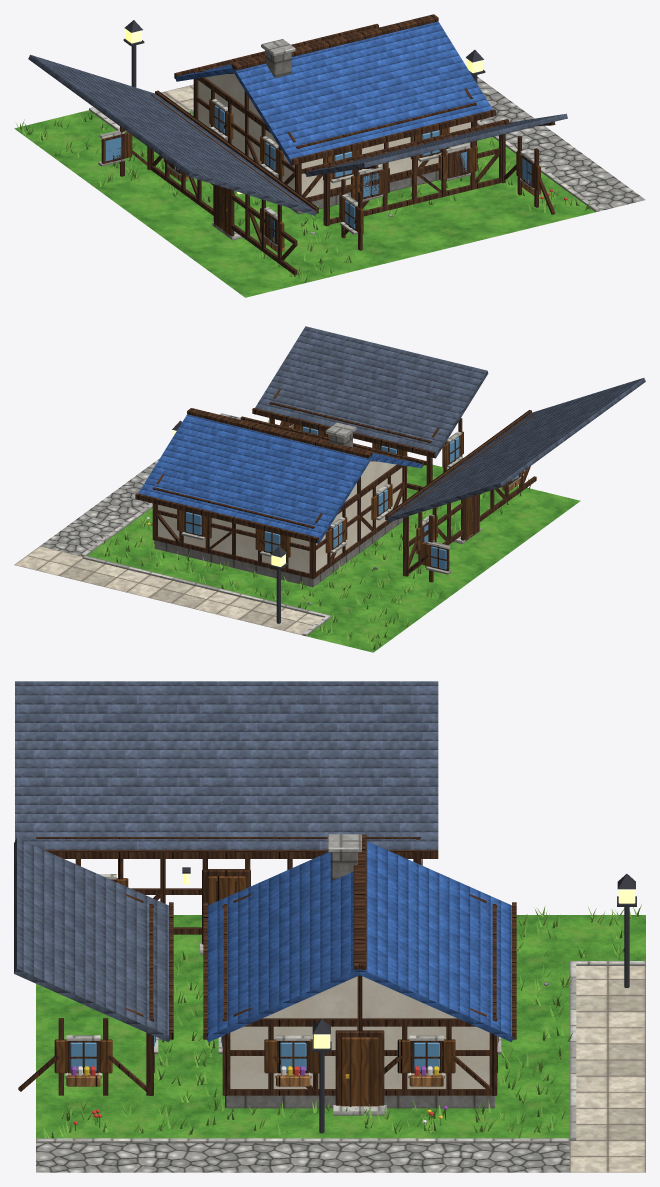
File: chunk_5_12.glb
3 views of the same model, one above another, from view 1: azimuth 30°, elevation 25°; view 2: azimuth 150°, elevation 25°; view 3: azimuth 270°, elevation 25° (orthographic). The views are drawn at different scales.
Parts seen in each view (by area): view 1: chunk_5_12; view 2: chunk_5_12; view 3: chunk_5_12.
Part boxes in pixels (x1,y1,x2,y2): chunk_5_12: (14,14,645,297); chunk_5_12: (14,326,645,652); chunk_5_12: (14,681,645,1172).
Size of the model in its own units: 18.58 by 5.65 by 16.57.
24 materials, 15 textured.
